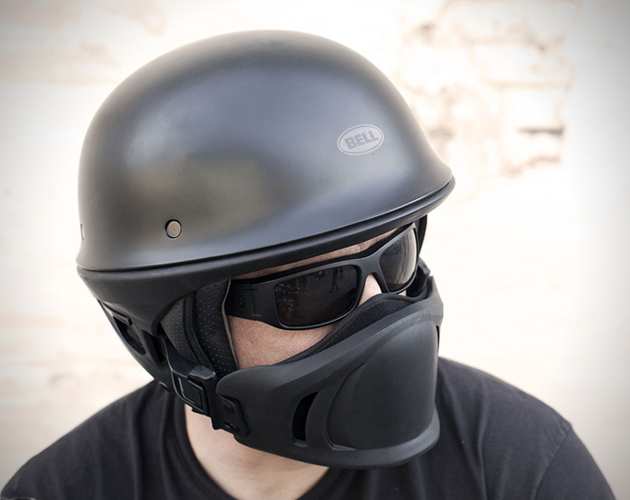with_helmet: (72, 20, 492, 475)
